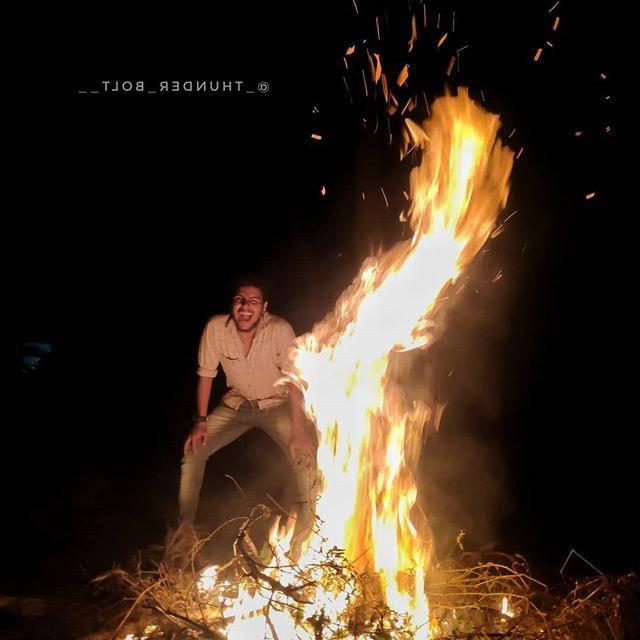fire: (190, 81, 527, 640)
